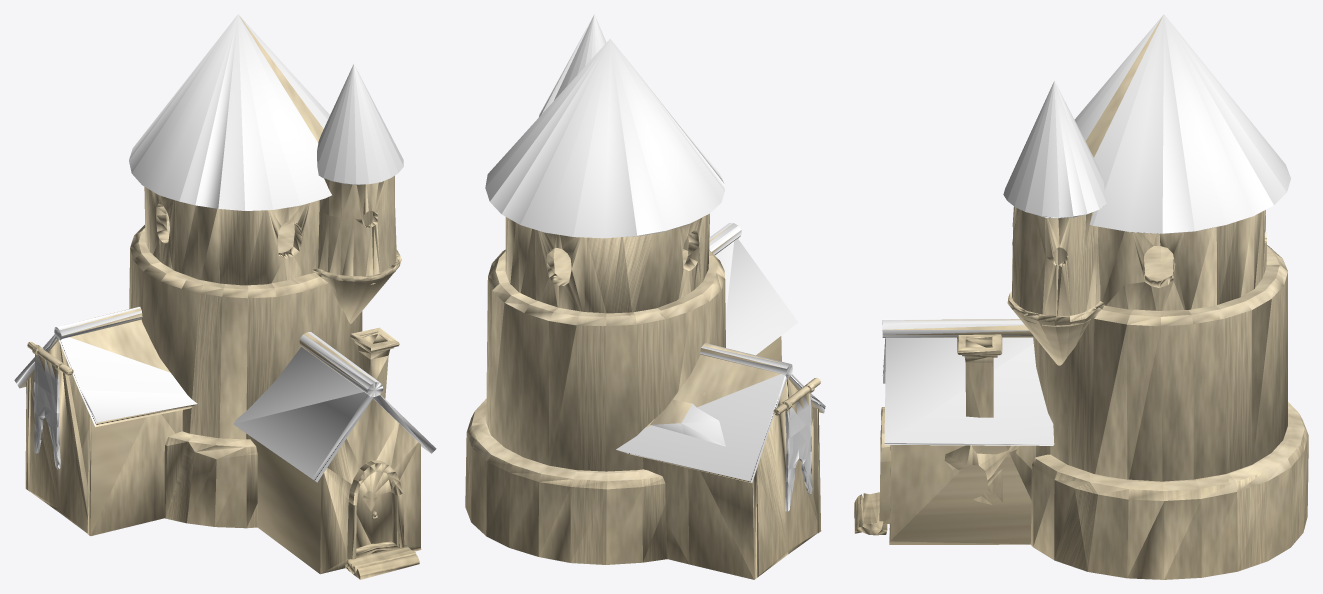
The picture shows the model from 3 angles, left to right: view 1: azimuth 30°, elevation 25°; view 2: azimuth 150°, elevation 25°; view 3: azimuth 270°, elevation 25°; orthographic projection. The views are drawn at different scales.
Parts seen in each view (by area): view 1: castle; view 2: castle; view 3: castle.
Part boxes in pixels (x1=…): castle: x1=14, y1=14, x2=436, y2=579; castle: x1=465, y1=14, x2=825, y2=579; castle: x1=854, y1=14, x2=1308, y2=579.
Size of the model in its own units: 2.52 by 3.52 by 2.9.
2 materials, 1 textured.
